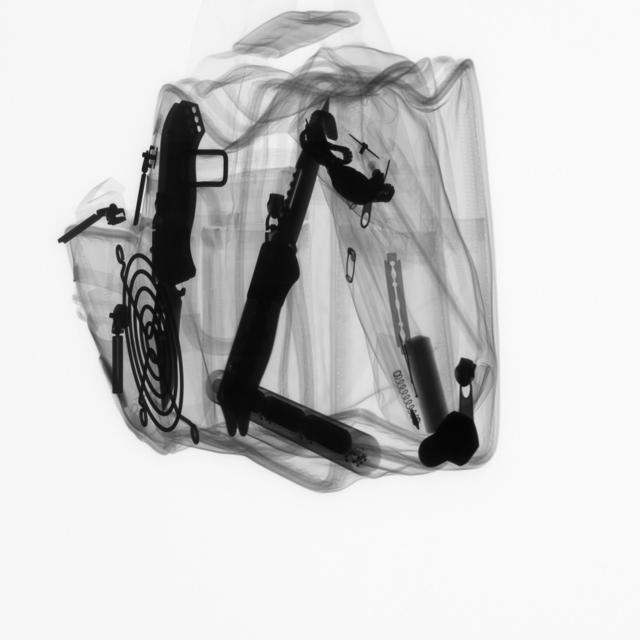knife: (213, 99, 341, 438)
